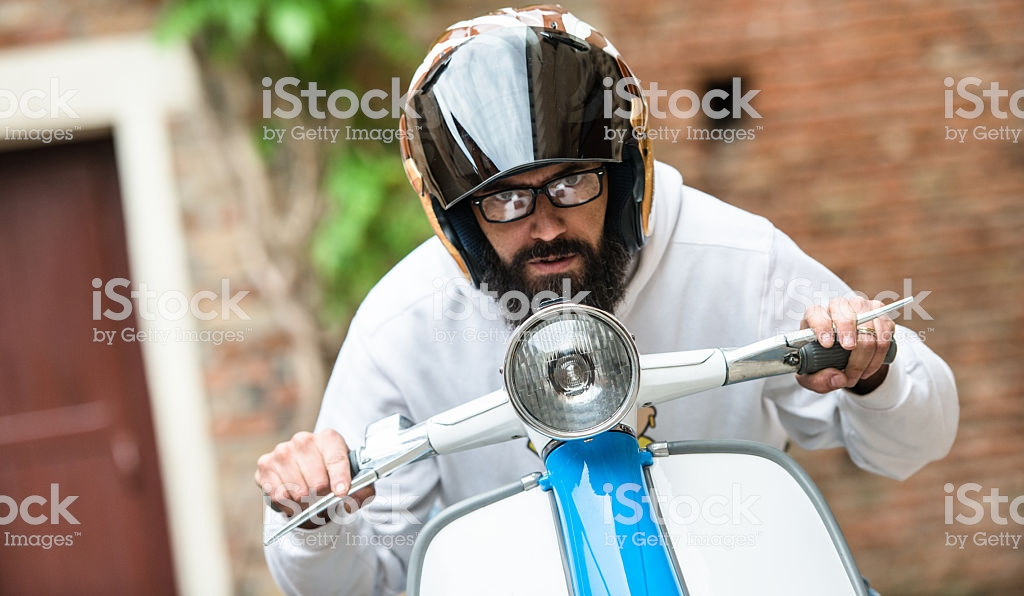helmet: (392, 25, 655, 259)
